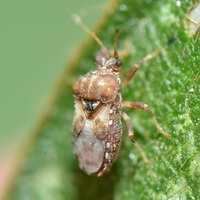insect: (72, 15, 169, 175)
